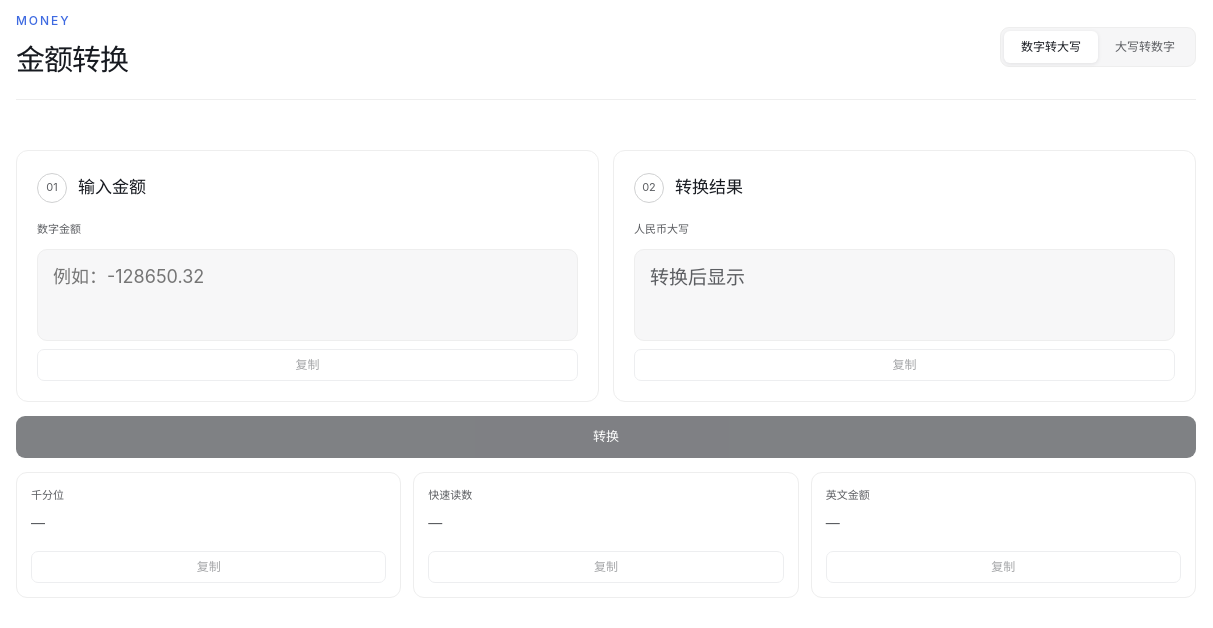
Test: renders the concise symmetric workbench and submits a number conversion
The image size is (1213, 628).
Expected: the heading "金额转换" is shown, [16,38,128,82]
Expected: the heading "输入金额" is shown, [78,175,146,200]
In the text box labelled "数字金额": x=308, y=294 [53,262,562,326], type "-128650.32"
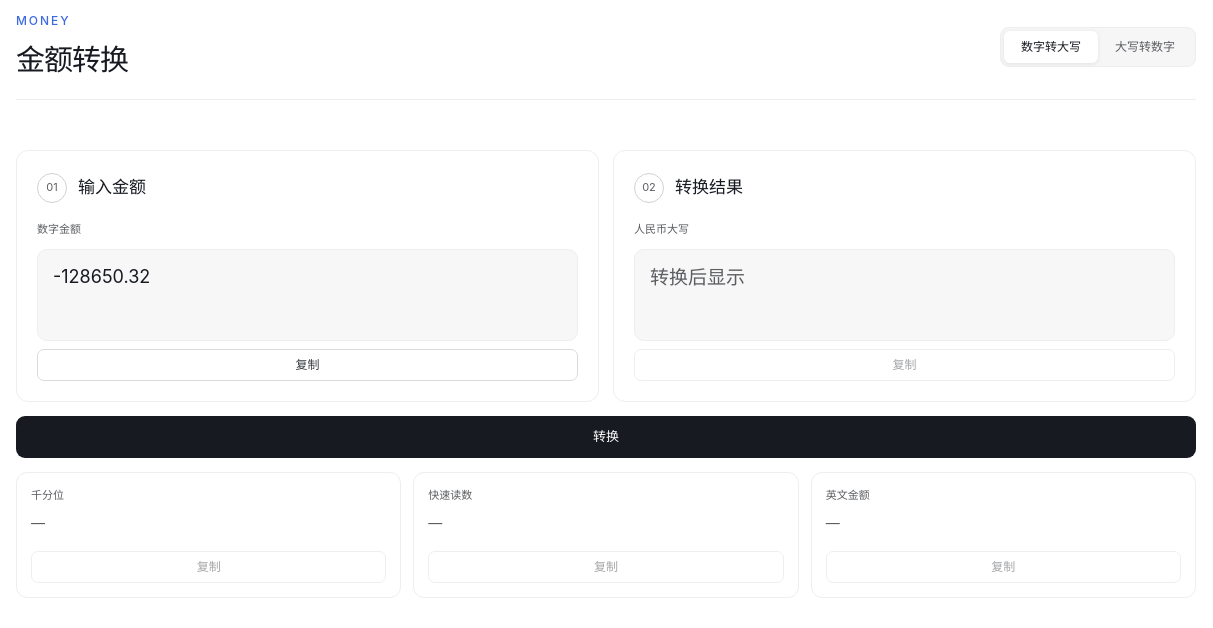
Click the button "转换": x=606, y=436 [16,416,1196,458]
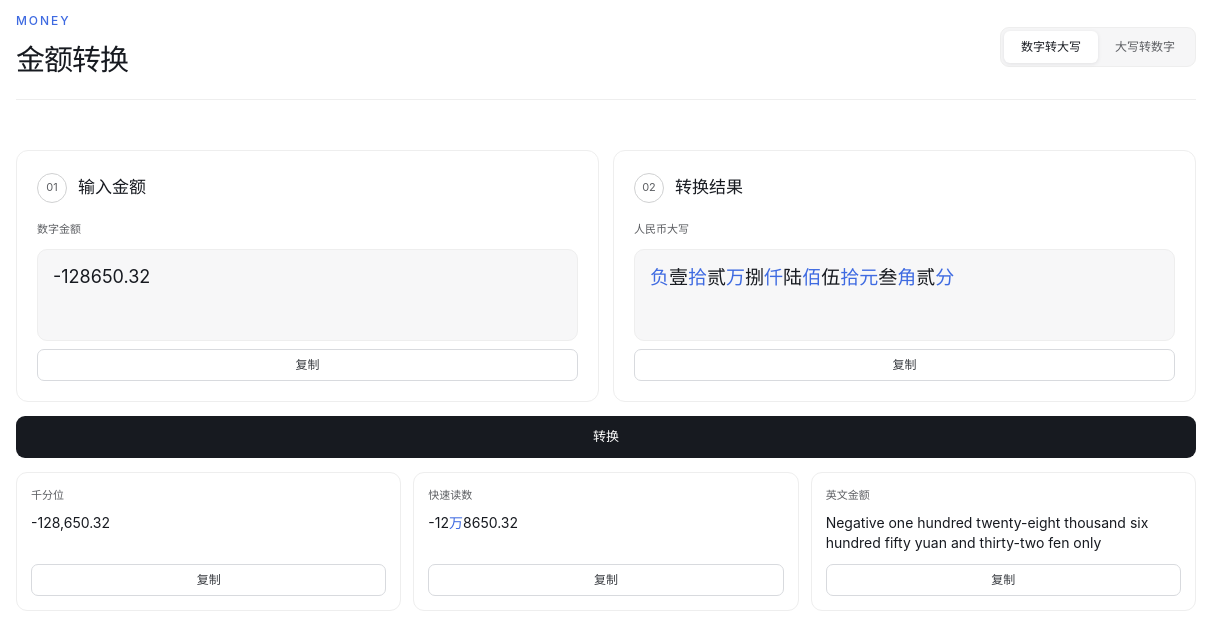
Expected: the number of buttons "复制" is 5, [37,348,578,380]; [634,348,1175,380]; [31,564,386,596]; [428,564,784,596]; [826,564,1181,596]
Expected: the text "-128,650.32" is shown, [31,514,110,531]
Expected: the text "Negative one hundred twenty-eight thousand six hundred fifty yuan and thirty-two fen only" is shown, [826,514,1148,551]
